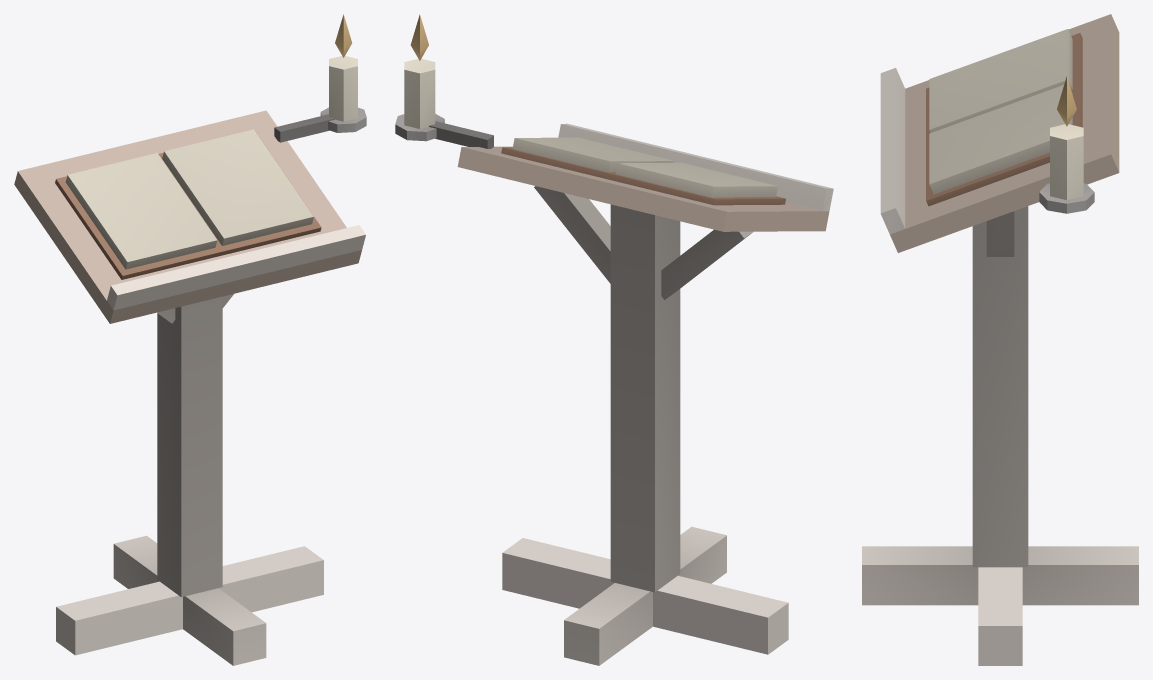
File: kit_lore.glb
3 views of the same model, side by side, from view 1: azimuth 30°, elevation 25°; view 2: azimuth 150°, elevation 25°; view 3: azimuth 270°, elevation 25° (orthographic). The views are drawn at different scales.
Visible parts, largest first — view 1: kit_lore; view 2: kit_lore; view 3: kit_lore.
Boxes of the visible parts, x1=… form: kit_lore: x1=14, y1=14, x2=366, y2=665; kit_lore: x1=395, y1=14, x2=833, y2=665; kit_lore: x1=862, y1=14, x2=1138, y2=665.
Bounding box in the file's own units: 0.79 × 1.24 × 0.5.
